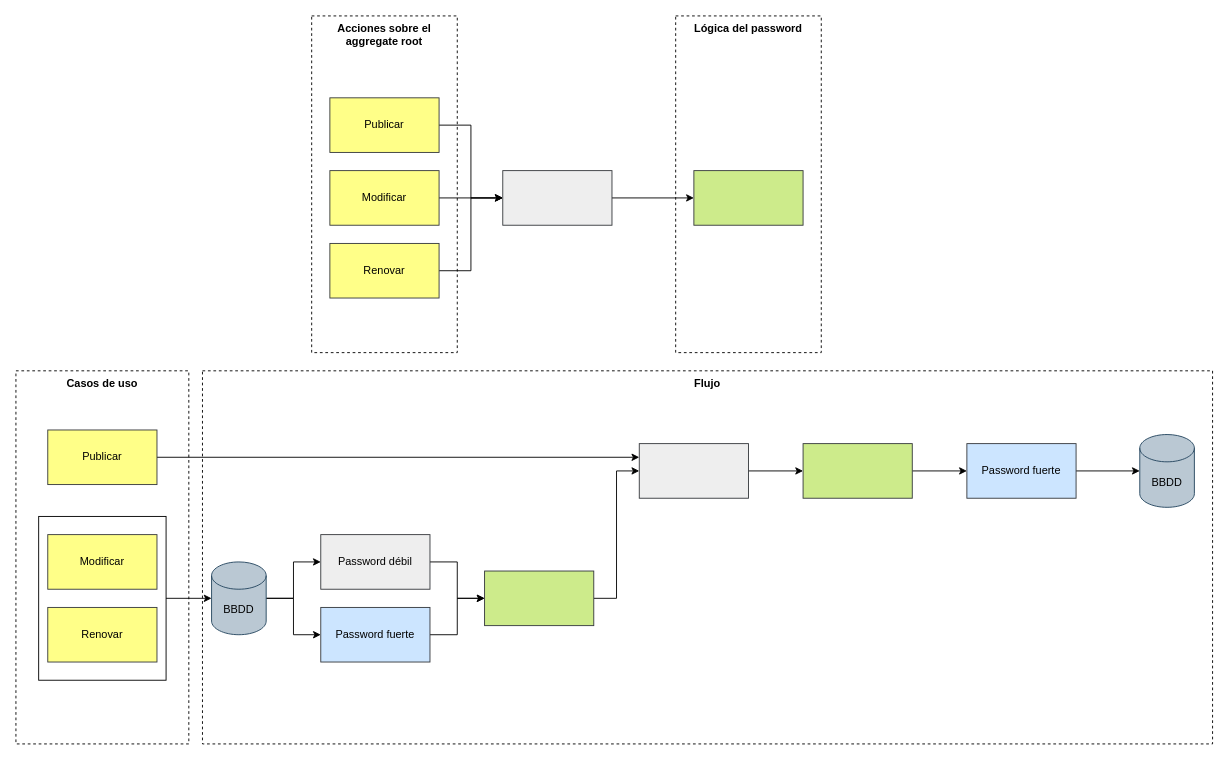
Image size: 1229x760. Some labels were removed from this diagram. Each missing label, with the centre of its shape:
"Advertisement" belongs at point (557, 197).
"Crea Password" belongs at point (857, 470).
"Password" belongs at point (748, 197).
"Password plano" belongs at point (693, 470).
"Valida password" belongs at point (539, 598).
